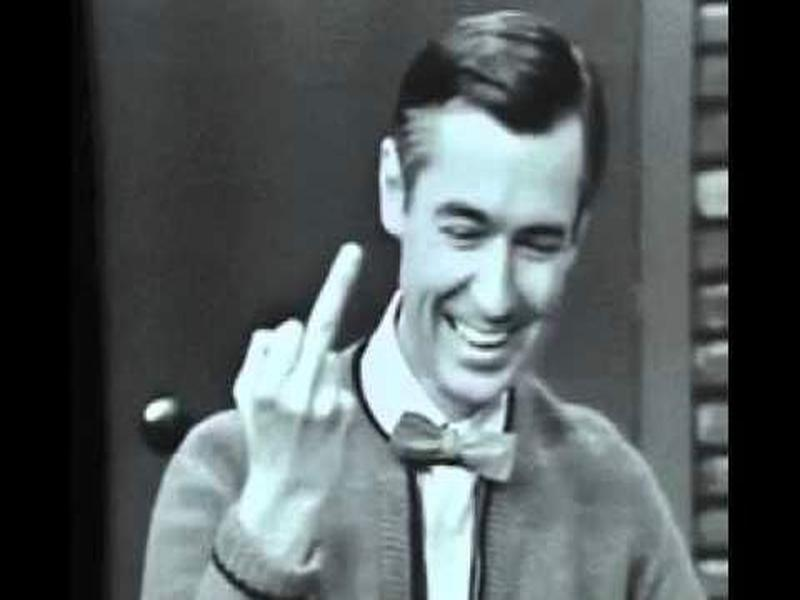flipping_the_bird: (234, 237, 367, 467)
